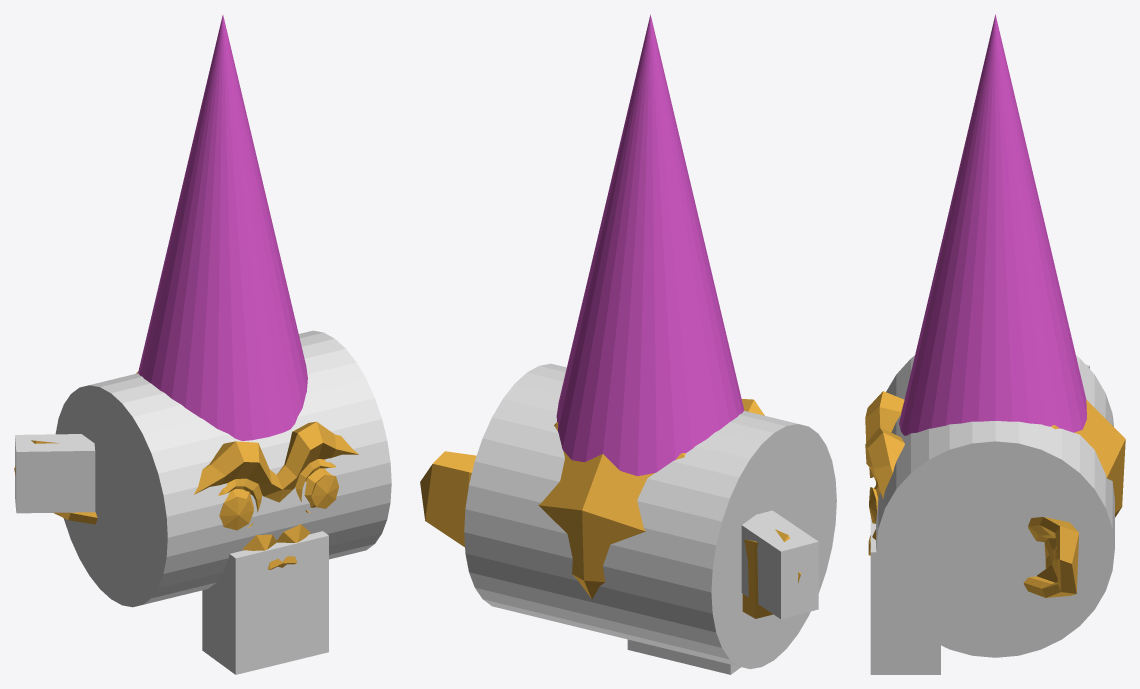
Rendered from magujo-hitbox.glb.
The picture shows the model from 3 angles, left to right: view 1: azimuth 30°, elevation 25°; view 2: azimuth 150°, elevation 25°; view 3: azimuth 270°, elevation 25°; orthographic projection. The views are drawn at different scales.
Visible parts, largest first — view 1: Cylinder, Cone, Cube.001, Suzanne, Cube; view 2: Cylinder, Cone, Suzanne, Cube, Cube.001; view 3: Cylinder, Cone, Suzanne, Cube.001.
Boxes of the visible parts, <box> form: Cylinder: <box>55,330,391,607</box>; Cone: <box>138,15,307,440</box>; Cube.001: <box>202,531,328,674</box>; Suzanne: <box>14,371,358,569</box>; Cube: <box>15,434,95,513</box>; Cylinder: <box>464,363,836,669</box>; Cone: <box>556,14,744,476</box>; Suzanne: <box>420,399,801,618</box>; Cube: <box>741,510,818,619</box>; Cube.001: <box>627,639,740,674</box>; Cylinder: <box>876,355,1114,657</box>; Cone: <box>899,14,1086,435</box>; Suzanne: <box>865,391,1125,597</box>; Cube.001: <box>870,516,940,674</box>.
Bounding box in the file's own units: 27.01 × 44.63 × 16.48.
